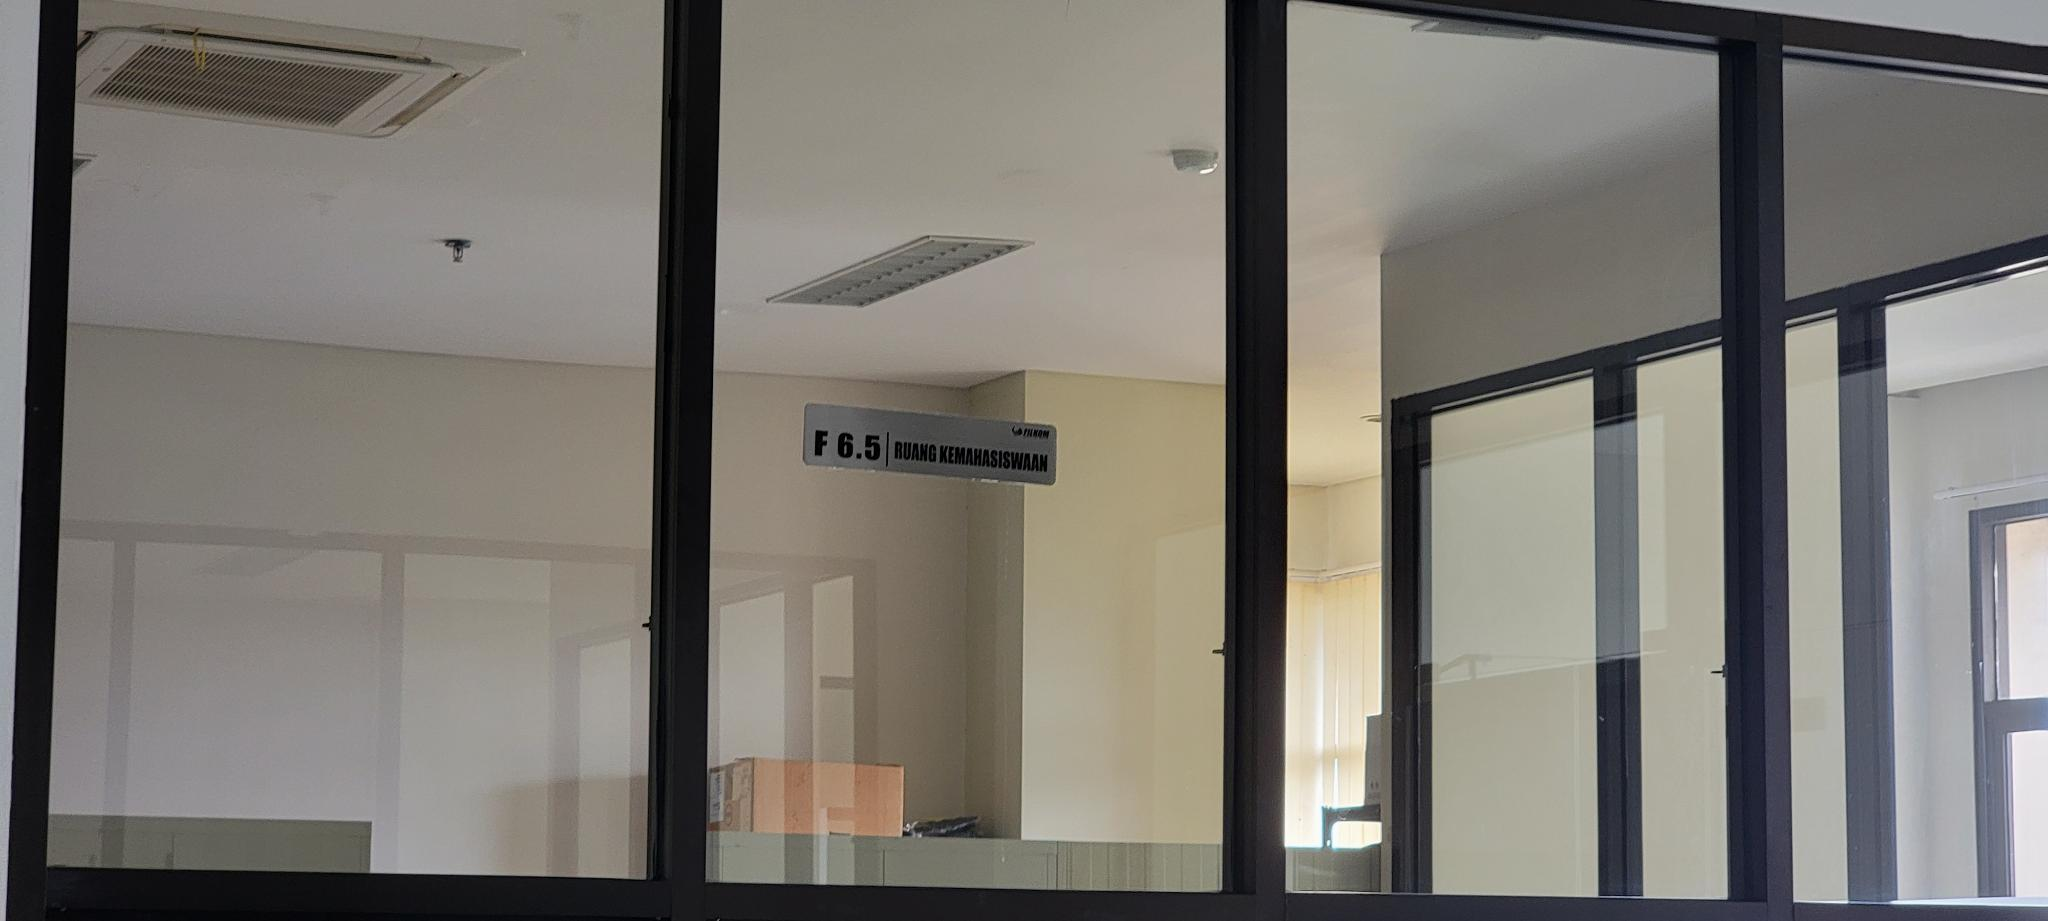plate: (802, 402, 1057, 487)
